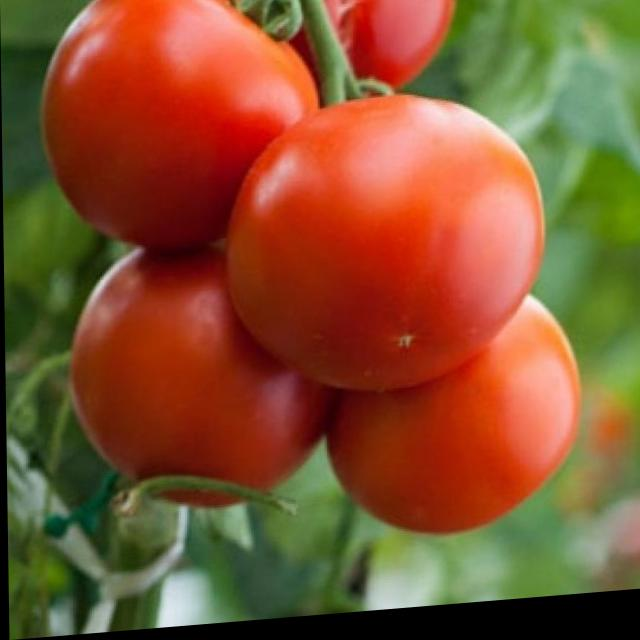kirmizi: (14, 0, 581, 569)
